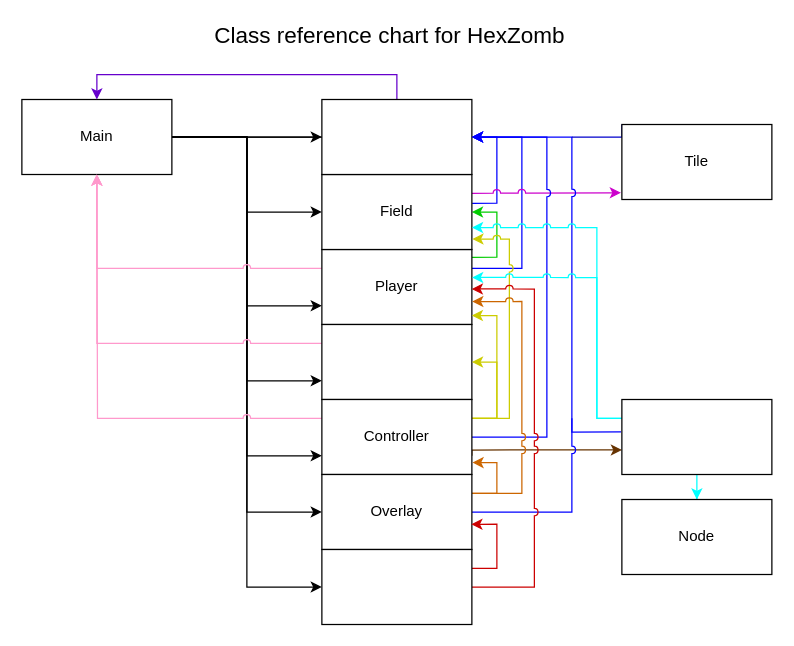
Image size: 794x646. Some labels were removed from this diagram. Here are the shapes that lost their labels. From the top down, the centre of each, then its label:
[396,136]: Screen
[396,361]: Serial
[696,436]: Zombie
[396,586]: Input
